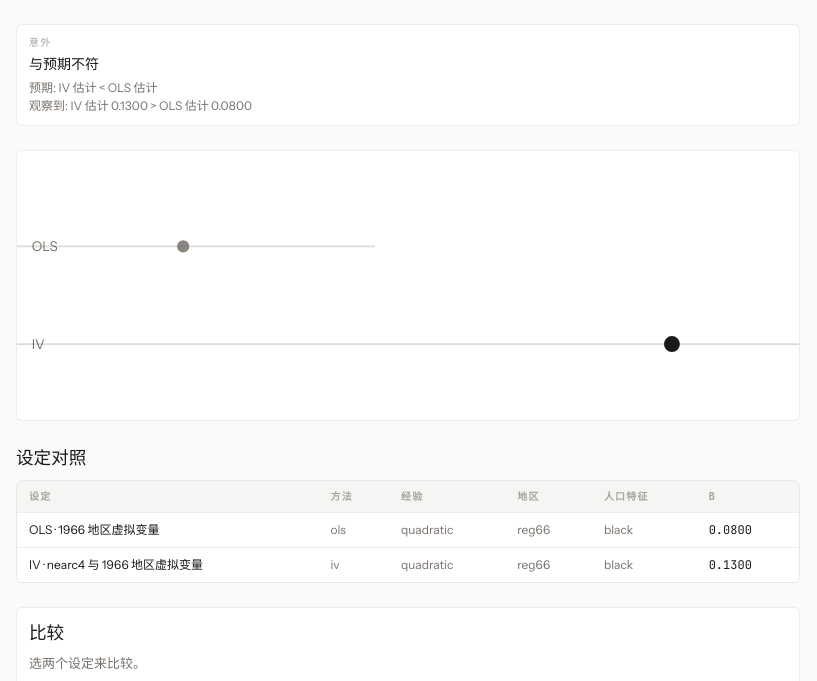
Test: EvidenceLab › renders results space, matrix and compare from research payload
Expected: the picture with test id "evidence-results-space" is shown, top-left (16, 150), bottom-right (800, 421)
Expected: the element with test id "evidence-spec-ols" is shown, top-left (16, 241), bottom-right (375, 253)
Step 1. Click the row with test id "evidence-matrix-ols_region_dummies" → {"x": 408, "y": 530}, box top-left (17, 512), bottom-right (799, 547)
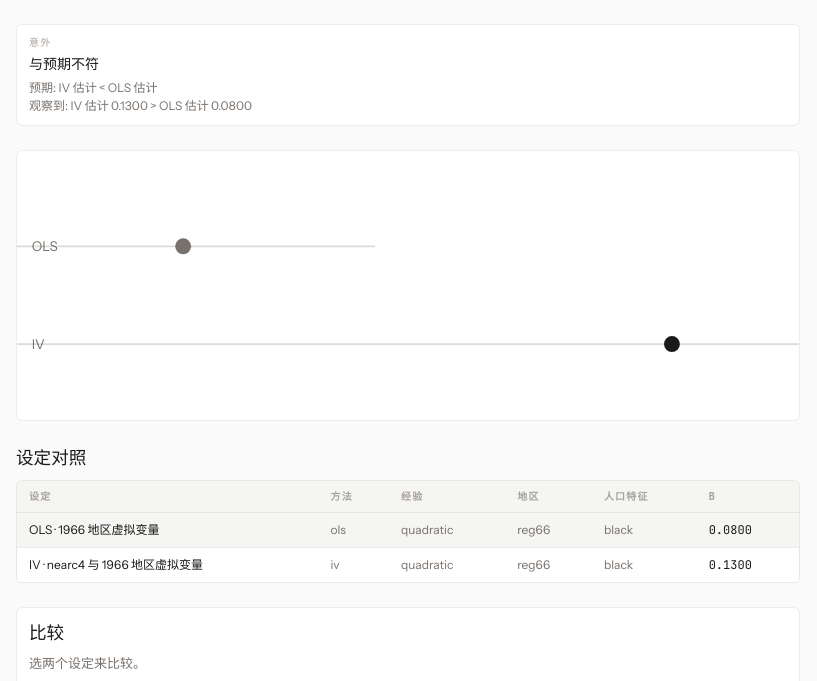
Step 2. Click the row with test id "evidence-matrix-iv_region_dummies" → {"x": 408, "y": 564}, box top-left (17, 547), bottom-right (799, 582)
(page scrolled)
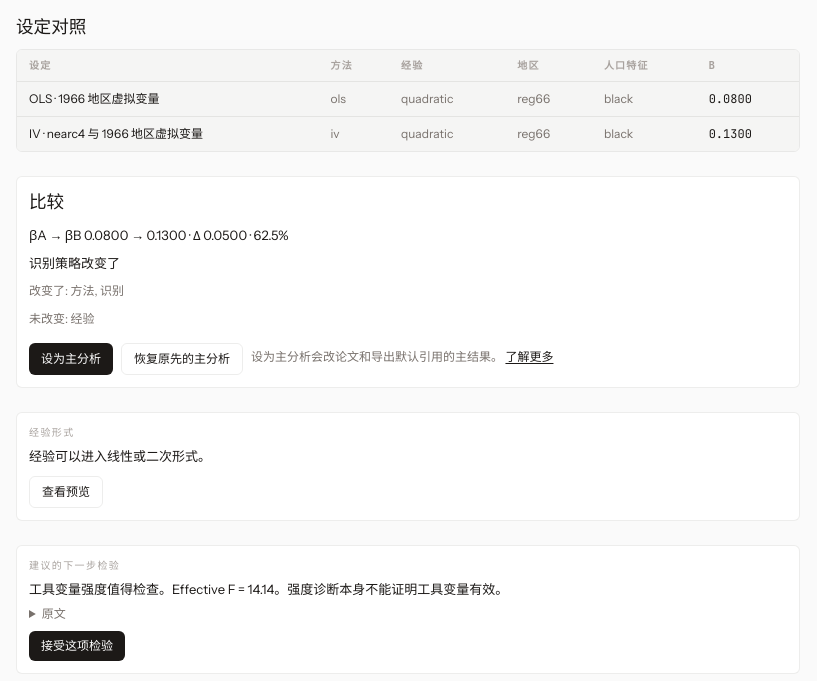
Expected: the text with test id "evidence-compare-intent" reads "识别策略改变了", top-left (29, 255), bottom-right (120, 271)
Expected: the text with test id "evidence-compare-delta" shows "βA → βB", top-left (29, 227), bottom-right (84, 243)
Expected: the text with test id "evidence-compare-delta" shows "Δ", top-left (186, 227), bottom-right (247, 243)
